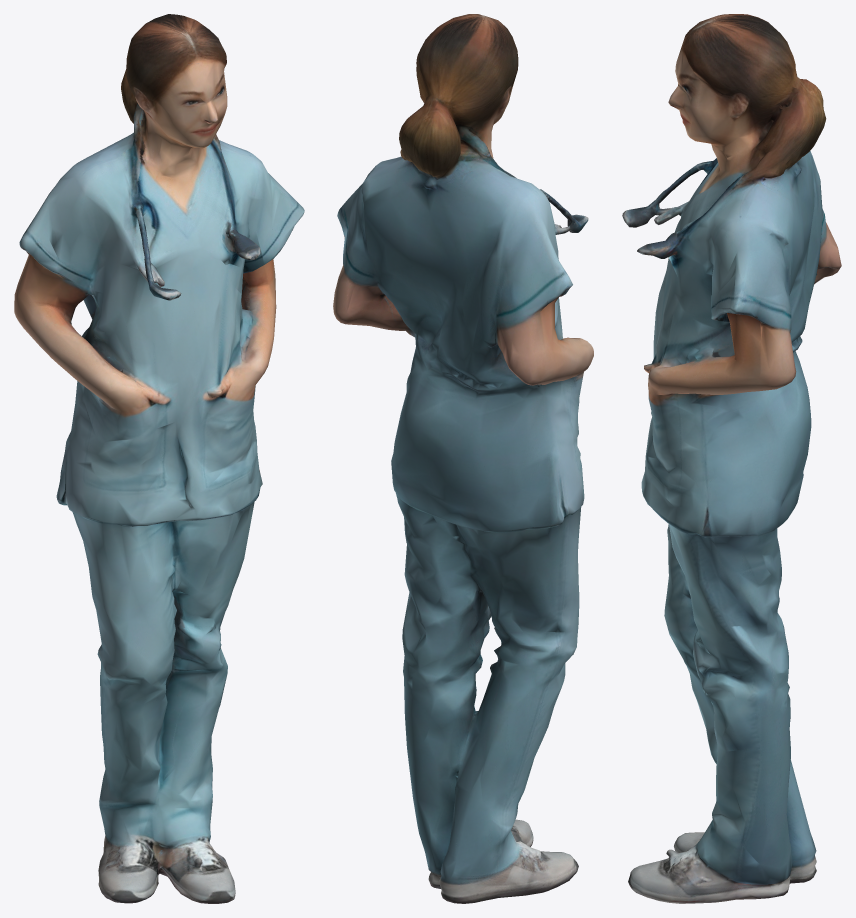
The model's file is NurseModel.glb.
3 views of the same model, side by side, from view 1: azimuth 30°, elevation 25°; view 2: azimuth 150°, elevation 25°; view 3: azimuth 270°, elevation 25° (orthographic). The views are drawn at different scales.
Bounding box in the file's own units: 0.6375 × 2 × 0.4561.
Materials: 1 (1 with a texture image).
